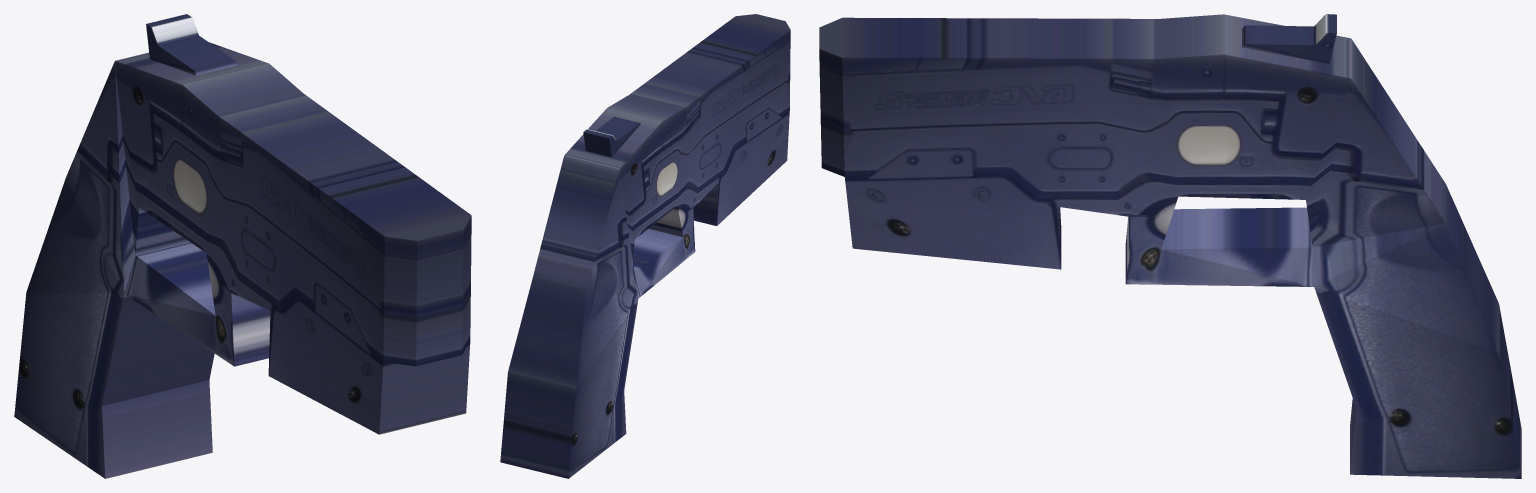
The model's file is gcon.obj.
3 views of the same model, side by side, from view 1: azimuth 30°, elevation 25°; view 2: azimuth 150°, elevation 25°; view 3: azimuth 270°, elevation 25° (orthographic). The views are drawn at different scales.
Visible parts, largest first — view 1: Plane; view 2: Plane; view 3: Plane.
Part boxes in pixels (x1,y1,x2,y2): Plane: (14, 14, 471, 478); Plane: (500, 14, 790, 478); Plane: (819, 14, 1521, 478).
Bounding box in the file's own units: 0.0191 × 0.0774 × 0.1143.
1 material, 1 textured.
